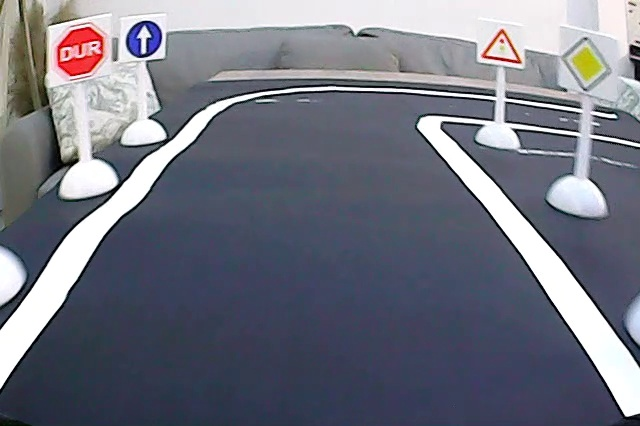red light: (480, 21, 523, 68)
stop sign: (49, 25, 111, 80)
